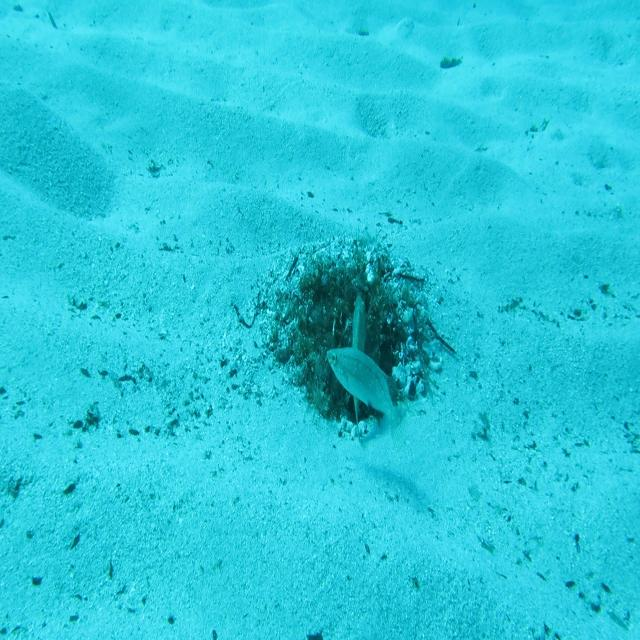FAN: (346, 291, 374, 448)
core_nest: (322, 281, 366, 310)
female: (325, 344, 414, 456)
nest: (254, 224, 452, 455)
vegetation: (439, 53, 463, 73)
